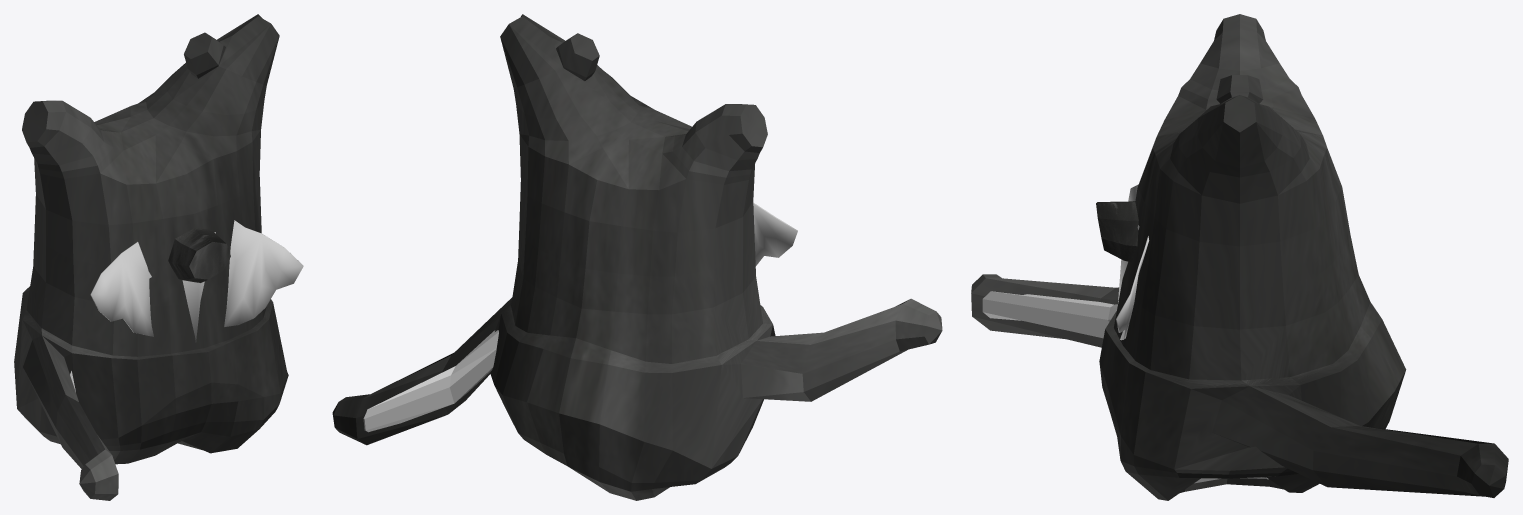
The model's file is frame_0059.obj.
3 views of the same model, side by side, from view 1: azimuth 30°, elevation 25°; view 2: azimuth 150°, elevation 25°; view 3: azimuth 270°, elevation 25° (orthographic). The views are drawn at different scales.
Visible parts, largest first — view 1: korok, leaf, nose; view 2: korok, leaf; view 3: korok, nose, leaf.
Part boxes in pixels (x1,y1,x2,y2): korok: (14,14,288,500); leaf: (90,220,303,342); nose: (168,228,230,282); korok: (332,14,942,500); leaf: (753,202,797,266); korok: (971,14,1508,500); nose: (1096,201,1138,262); leaf: (1116,184,1149,340).
Bounding box in the file's own units: 1.78 × 1.87 × 2.05.
